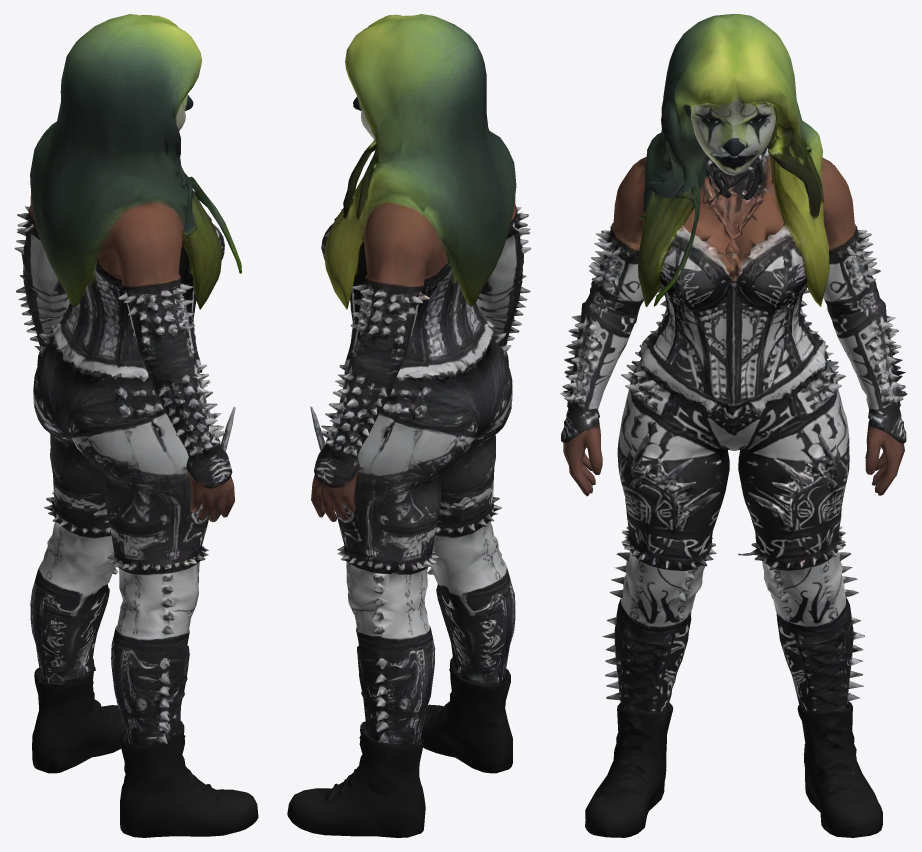
File: ONYX.glb
The picture shows the model from 3 angles, left to right: view 1: azimuth 30°, elevation 25°; view 2: azimuth 150°, elevation 25°; view 3: azimuth 270°, elevation 25°; orthographic projection. The views are drawn at different scales.
Visible parts, largest first — view 1: tripo_node_2554cf43-8f94-47bb-9ad2-9e1e0313dea4; view 2: tripo_node_2554cf43-8f94-47bb-9ad2-9e1e0313dea4; view 3: tripo_node_2554cf43-8f94-47bb-9ad2-9e1e0313dea4.
Part boxes in pixels (x1,y1,x2,y2): tripo_node_2554cf43-8f94-47bb-9ad2-9e1e0313dea4: (14,14,258,837); tripo_node_2554cf43-8f94-47bb-9ad2-9e1e0313dea4: (287,14,531,837); tripo_node_2554cf43-8f94-47bb-9ad2-9e1e0313dea4: (560,14,907,837).
Bounding box in the file's own units: 0.2132 × 0.9998 × 0.3977.
1 material, 1 textured.
